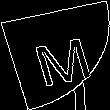M_N: (20, 25, 90, 85)
